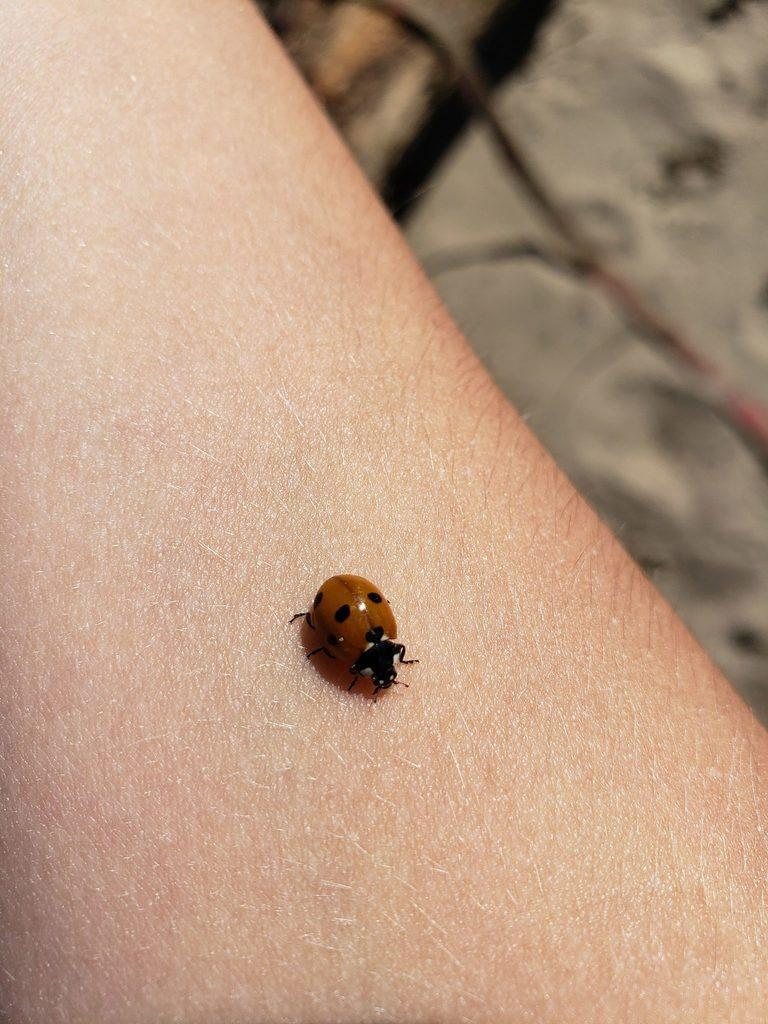ladybug: (291, 571, 426, 701)
